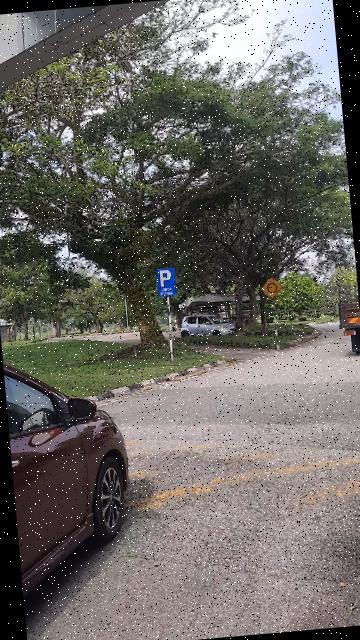car: (3, 344, 148, 640)
